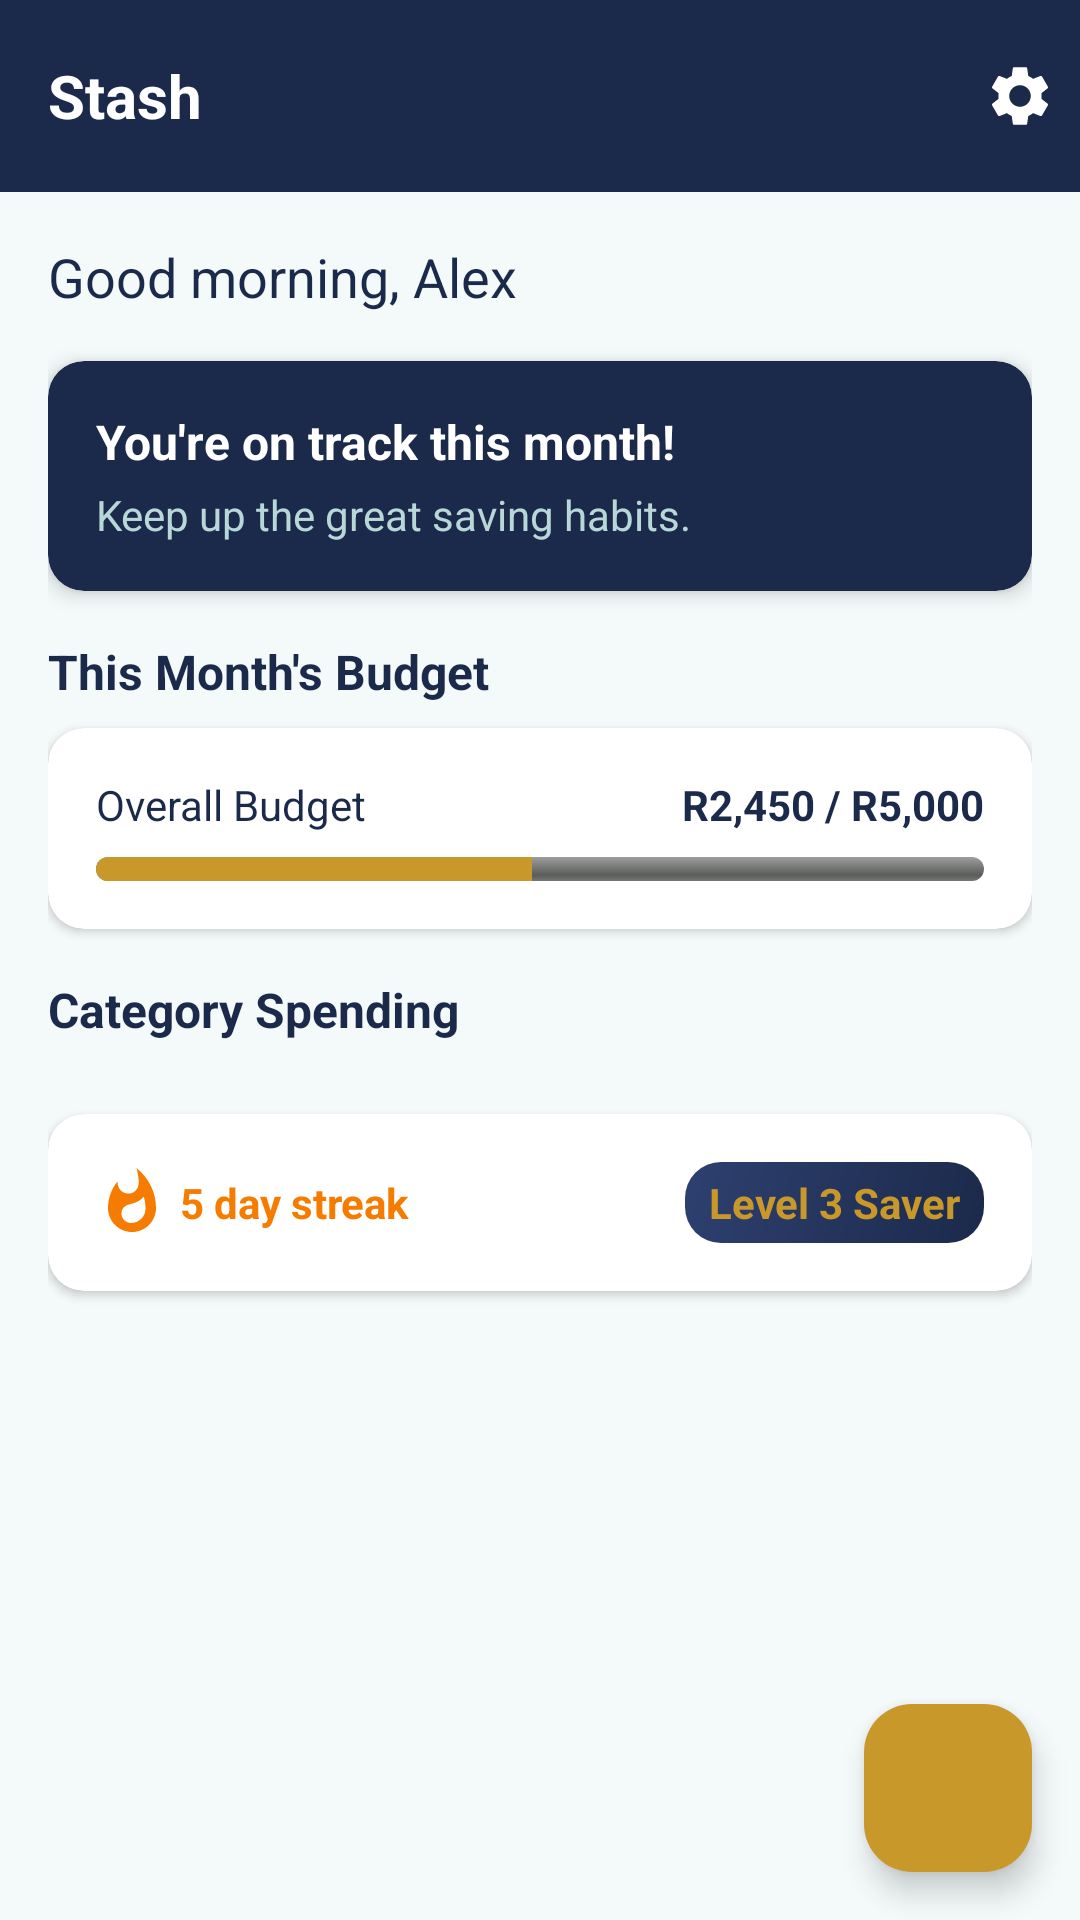

Icon click points for this 1080x1920 phone screenshot, format (x,y):
Flame: (132,1200)
Settings: (1020,96)
